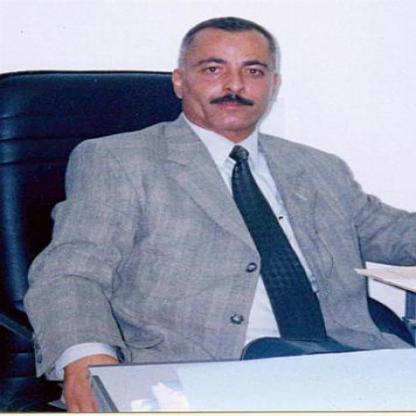face: (184, 20, 280, 135)
